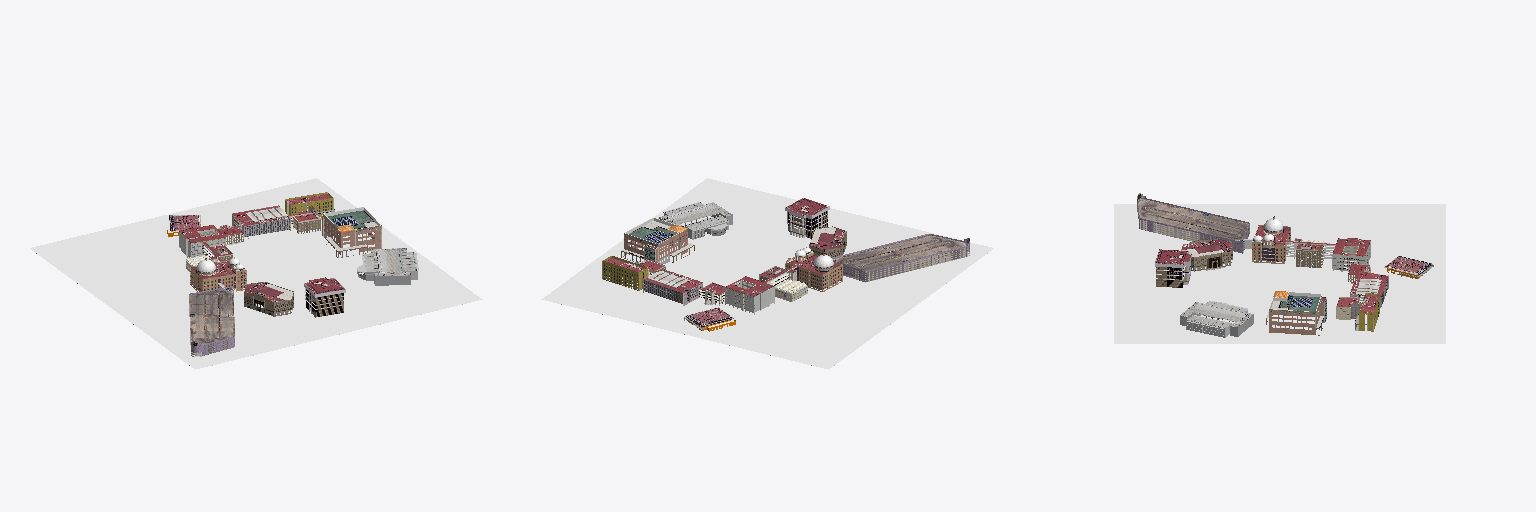
3 renders of one model, left to right at view 1: azimuth 30°, elevation 25°; view 2: azimuth 150°, elevation 25°; view 3: azimuth 270°, elevation 25°, orthographic.
Visible parts, largest first — view 1: ccm4, ccm14, ccm10, ccm3, ccm2, ccm, ccm8, ccm9, ccm6, ccm1, ccm12, ccm5; view 2: ccm4, ccm14, ccm10, ccm3, ccm2, ccm9, ccm6, ccm8, ccm1, ccm, ccm5, ccm7; view 3: ccm4, ccm14, ccm10, ccm3, ccm2, ccm, ccm8, ccm6, ccm13, ccm1, ccm9, ccm5.
Boxes of the visible parts, x1=… form: ccm4: x1=30, y1=178, x2=482, y2=369; ccm14: x1=189, y1=283, x2=234, y2=356; ccm10: x1=322, y1=207, x2=381, y2=257; ccm3: x1=357, y1=248, x2=418, y2=285; ccm2: x1=190, y1=254, x2=246, y2=291; ccm: x1=244, y1=282, x2=293, y2=316; ccm8: x1=304, y1=277, x2=345, y2=317; ccm9: x1=232, y1=205, x2=290, y2=238; ccm6: x1=179, y1=225, x2=225, y2=257; ccm1: x1=285, y1=192, x2=334, y2=223; ccm12: x1=288, y1=211, x2=320, y2=233; ccm5: x1=167, y1=215, x2=200, y2=236; ccm4: x1=541, y1=178, x2=993, y2=369; ccm14: x1=832, y1=234, x2=969, y2=282; ccm10: x1=621, y1=217, x2=694, y2=263; ccm3: x1=659, y1=202, x2=732, y2=239; ccm2: x1=785, y1=247, x2=842, y2=291; ccm9: x1=643, y1=269, x2=702, y2=305; ccm6: x1=725, y1=276, x2=774, y2=314; ccm8: x1=785, y1=198, x2=829, y2=238; ccm1: x1=602, y1=256, x2=647, y2=290; ccm: x1=809, y1=226, x2=846, y2=257; ccm5: x1=684, y1=307, x2=735, y2=331; ccm7: x1=775, y1=269, x2=807, y2=301; ccm4: x1=1114, y1=204, x2=1445, y2=343; ccm14: x1=1137, y1=193, x2=1252, y2=253; ccm10: x1=1266, y1=291, x2=1326, y2=335; ccm3: x1=1180, y1=301, x2=1253, y2=337; ccm2: x1=1252, y1=216, x2=1290, y2=263; ccm: x1=1181, y1=238, x2=1232, y2=271; ccm8: x1=1155, y1=249, x2=1191, y2=287; ccm6: x1=1332, y1=238, x2=1370, y2=271; ccm13: x1=1286, y1=241, x2=1335, y2=267; ccm1: x1=1351, y1=293, x2=1379, y2=331; ccm9: x1=1350, y1=273, x2=1388, y2=307; ccm5: x1=1384, y1=256, x2=1433, y2=278.
Bounding box in the file's own units: 20000 × 2396 × 20000.
15 materials, 14 textured.